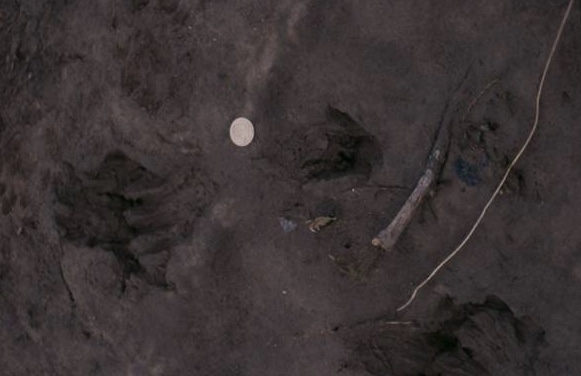beaver: (49, 148, 205, 295), (299, 102, 383, 186)
